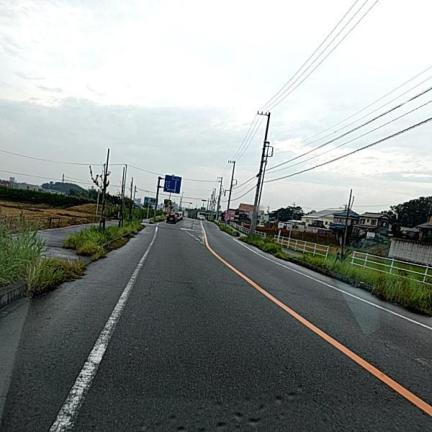Road: (0, 220, 431, 431)
